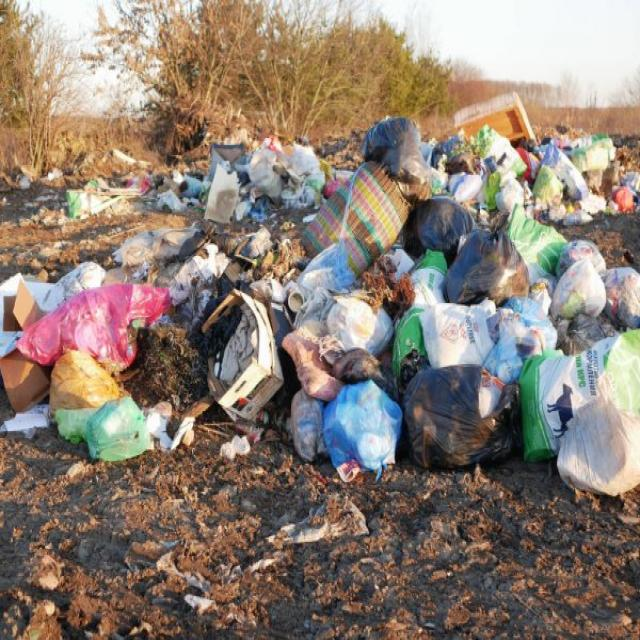garbage: (33, 103, 630, 493)
